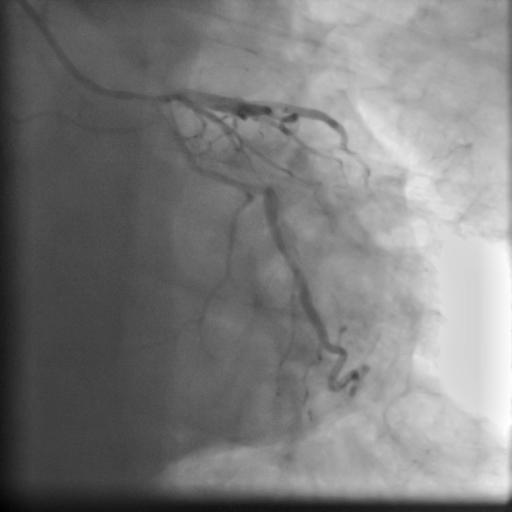Stenosis: (245, 180, 274, 202)
